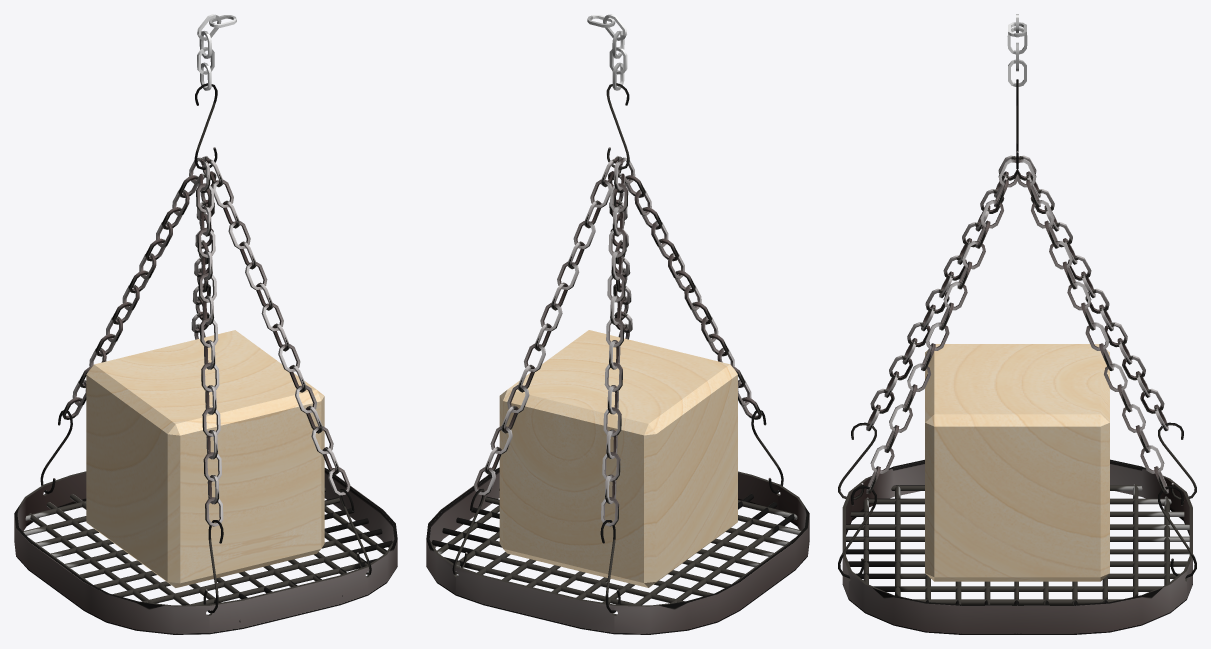
File: rihutoB.fbx
The picture shows the model from 3 angles, left to right: view 1: azimuth 30°, elevation 25°; view 2: azimuth 150°, elevation 25°; view 3: azimuth 270°, elevation 25°; orthographic projection.
Parts seen in each view (by area): view 1: rihutoB_S; view 2: rihutoB_S; view 3: rihutoB_S.
Boxes of the visible parts, x1,y1,x2,y2 form: rihutoB_S: [14, 14, 397, 634]; rihutoB_S: [426, 14, 809, 634]; rihutoB_S: [838, 14, 1196, 634].
Bounding box in the file's own units: 58.65 × 101 × 59.76.
3 materials, 3 textured.
